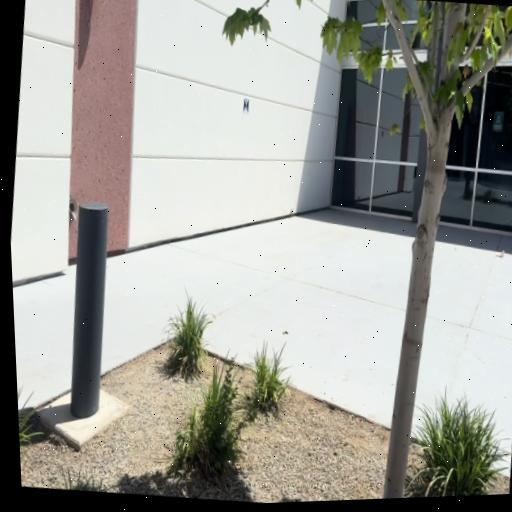target0: (243, 97, 249, 114)
